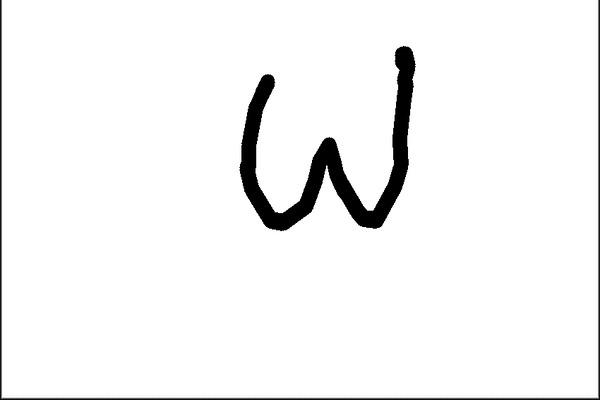w: (228, 39, 422, 237)
